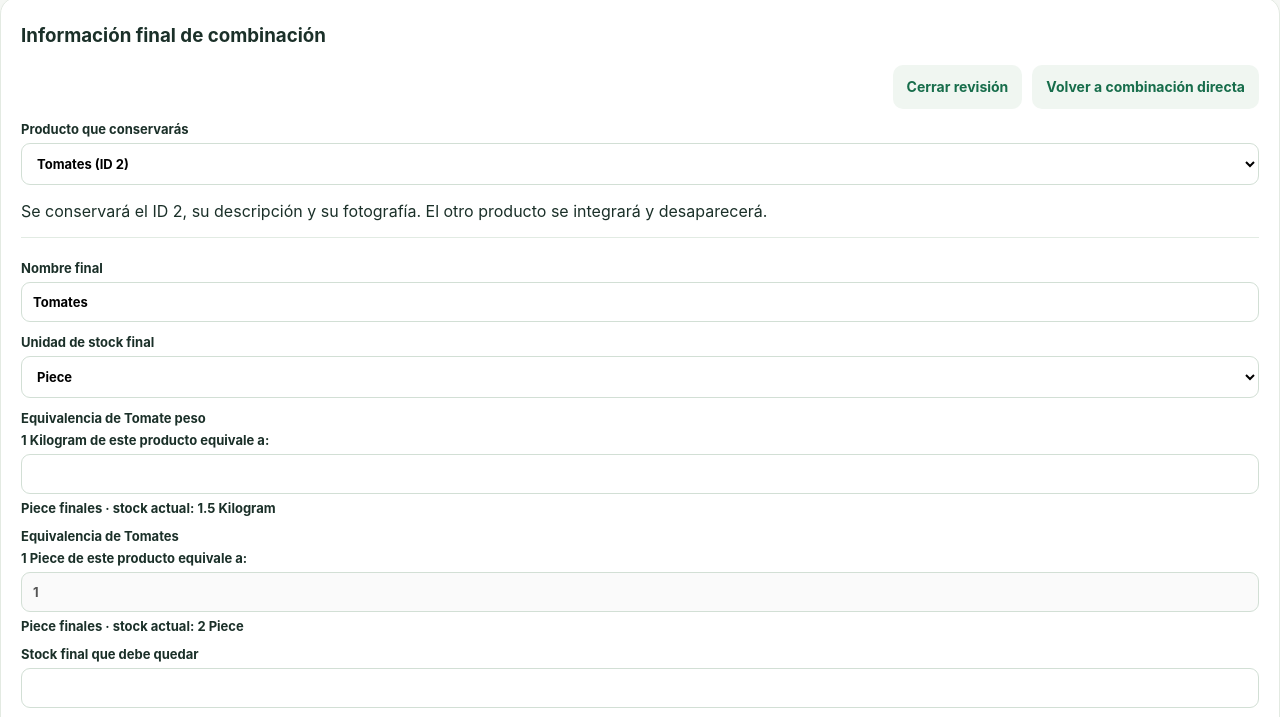
keeps dependency blockers visible even when units and stock are supplied
Type "2" into the number field labelled "Equivalencia de Tomate peso". click: (640, 474)
box: [21,454,1259,494]
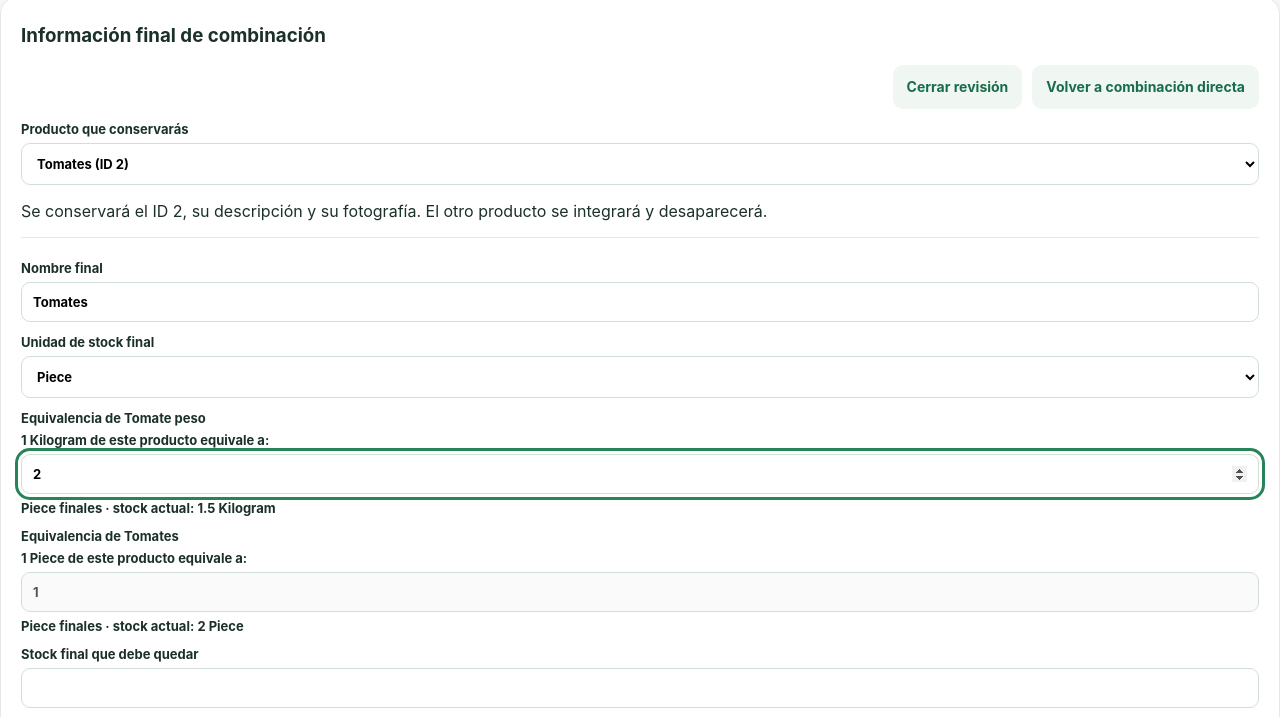
Type "4" into the number field labelled "Stock final que debe quedar". click: (640, 688)
box: [21,668,1259,708]
(page scrolled)
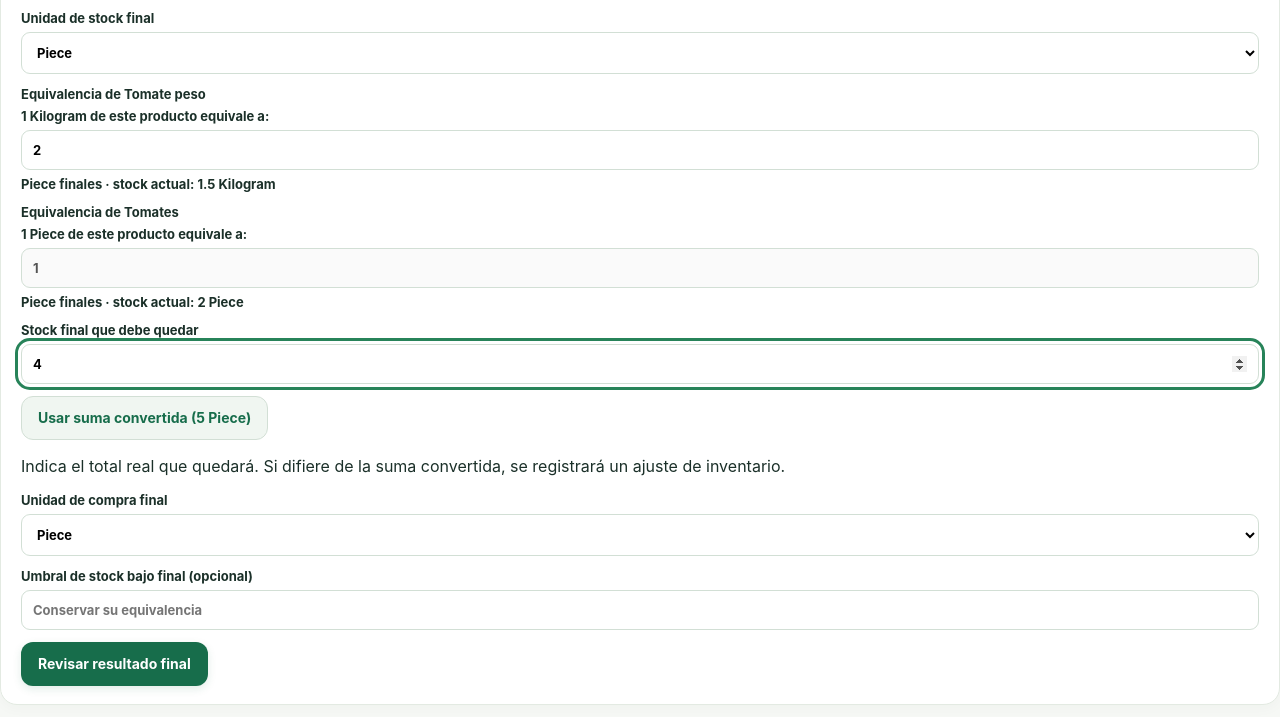
Click the button "Revisar resultado final". click: (114, 664)
box: [21,642,208,686]
(page scrolled)
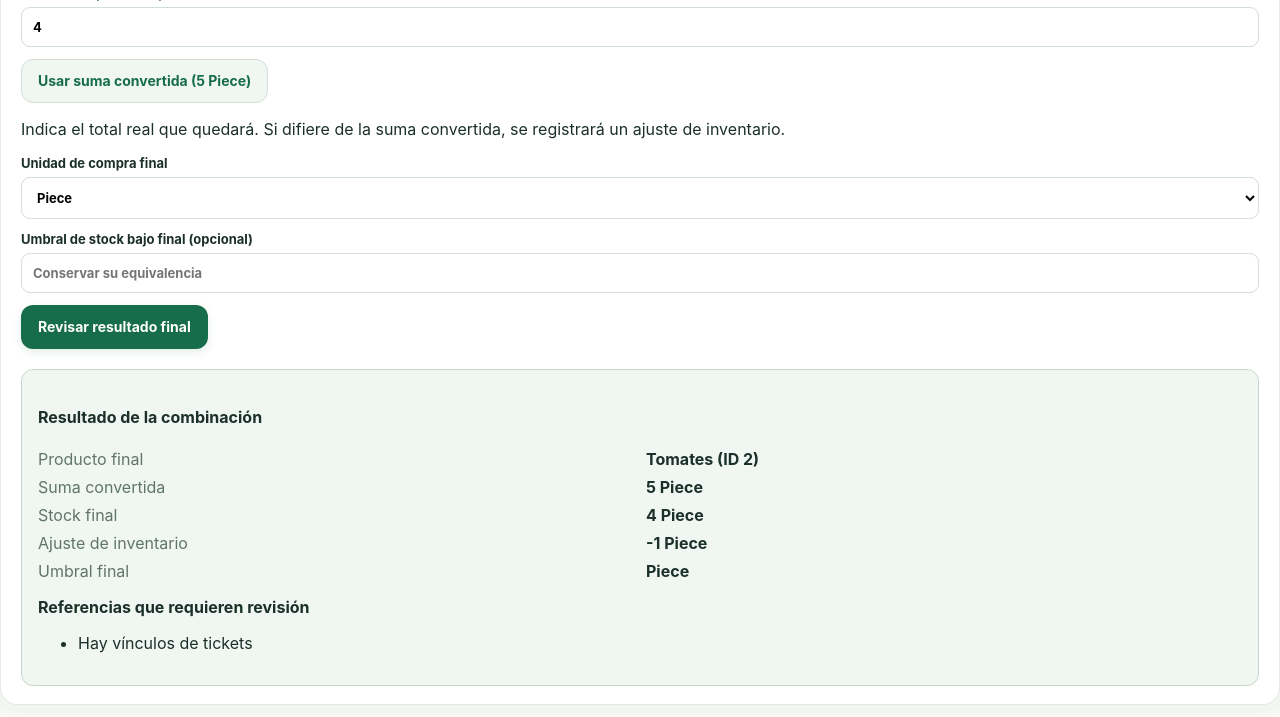
expect the list item "Hay vínculos de tickets" is shown: met, box [78,632,253,652]
